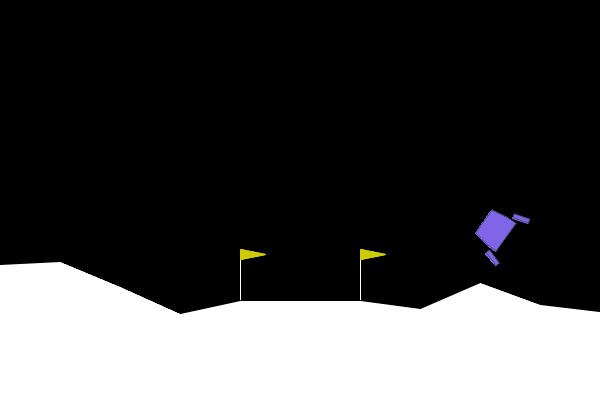lander: (464, 196, 532, 268)
